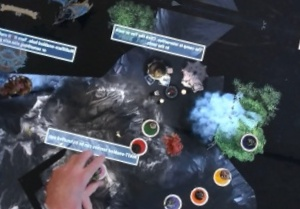green: (137, 114, 163, 139)
orange: (188, 182, 212, 207)
pink: (83, 156, 113, 184)
red: (126, 134, 150, 157)
violet: (239, 129, 263, 153), (160, 189, 186, 209)
yellow: (210, 164, 235, 188)
